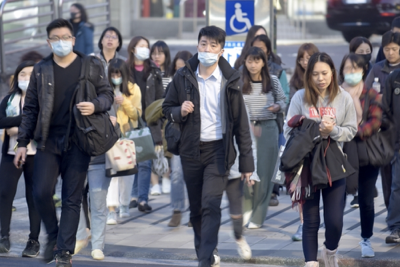mask_weared_incorrect: (195, 40, 221, 67), (341, 63, 363, 88), (16, 70, 34, 92)
with_mask: (50, 33, 72, 57), (132, 44, 151, 63), (354, 47, 371, 67), (108, 71, 122, 87)
without_mask: (310, 67, 332, 91), (245, 57, 263, 76), (99, 33, 118, 51), (382, 46, 399, 63), (297, 54, 311, 71), (151, 51, 165, 67)
